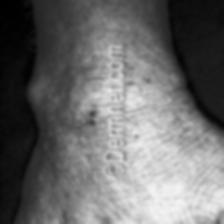Non-Cancerous Skin Condition: (58, 65, 100, 163), (126, 52, 164, 146)
